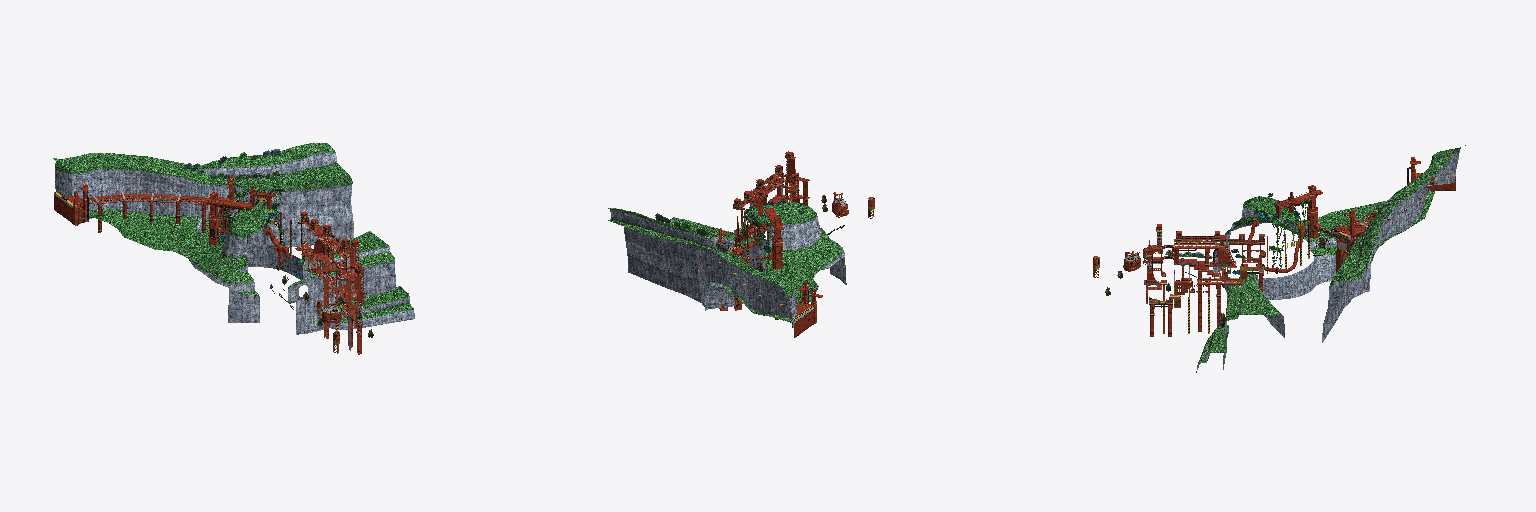
The picture shows the model from 3 angles: view 1: azimuth 30°, elevation 25°; view 2: azimuth 150°, elevation 25°; view 3: azimuth 270°, elevation 25°; orthographic projection.
Visible parts, largest first — view 1: polygon13, polygon18, polygon14, polygon16, polygon15, polygon19, polygon17, polygon22, polygon369, polygon20; view 2: polygon13, polygon16, polygon18, polygon15, polygon14, polygon17, polygon19; view 3: polygon13, polygon16, polygon18, polygon14, polygon19, polygon17.
Part boxes in pixels (x1,y1,x2,y2): polygon13: (55,170,353,247); polygon18: (223,234,395,334); polygon14: (53,143,351,185); polygon16: (79,204,394,295); polygon15: (63,150,352,195); polygon19: (124,215,318,264); polygon17: (189,217,394,302); polygon22: (338,286,412,320); polygon369: (183,149,280,179); polygon20: (329,311,414,329); polygon13: (624,227,796,326); polygon16: (668,201,841,322); polygon18: (705,219,846,310); polygon15: (610,209,794,294); polygon14: (608,208,793,300); polygon17: (682,213,844,288); polygon19: (729,233,818,305); polygon13: (1322,154,1458,342); polygon16: (1225,190,1435,320); polygon18: (1214,207,1370,369); polygon14: (1330,145,1465,284); polygon19: (1244,205,1405,285); polygon17: (1222,213,1377,320).
Bounding box in the file's own units: 2865 × 1457 × 3840.
78 materials, 49 textured.